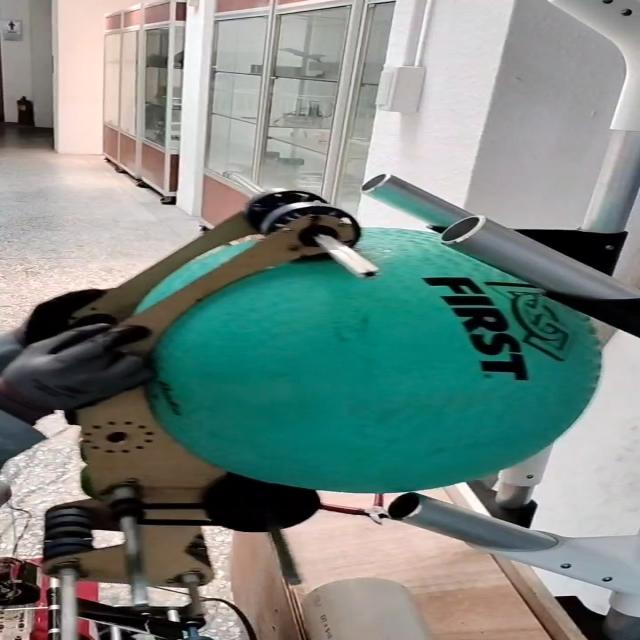ALGAE: (134, 232, 603, 500)
CORAL: (282, 572, 457, 640)
